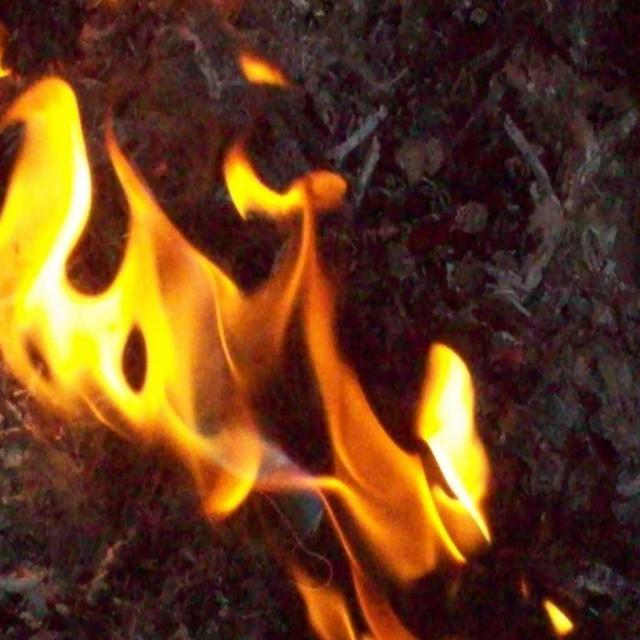Fire: (1, 59, 487, 639), (542, 584, 578, 639)
